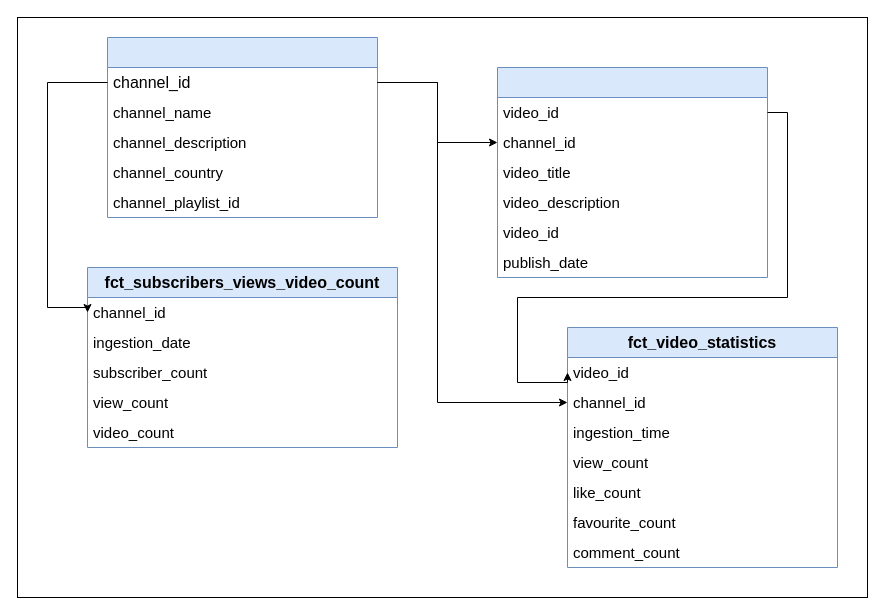
Image size: 885x615. Some labels were removed from this diagram. The box of each missing label's shape, as (x1, y1, x2, y2) in pixels:
dimChannels: (106, 36, 378, 218)
dimVideos: (496, 66, 768, 278)
